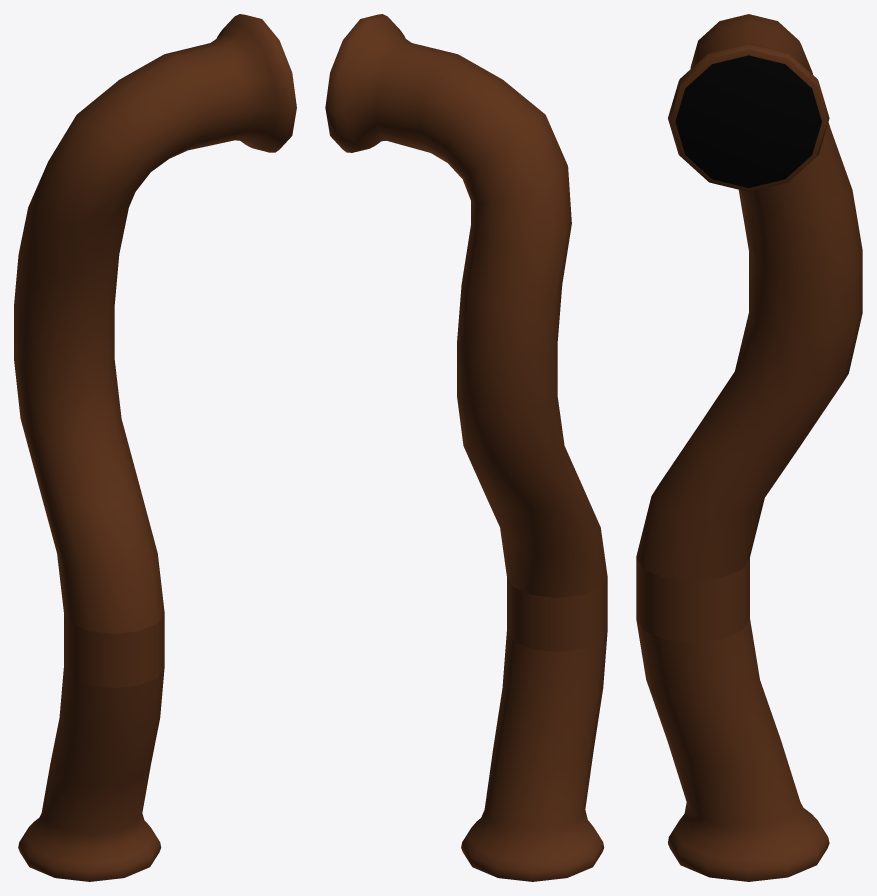
Rendered from Pipe_Curve_1x1_4m_Bent.fbx.
The picture shows the model from 3 angles, left to right: view 1: azimuth 30°, elevation 25°; view 2: azimuth 150°, elevation 25°; view 3: azimuth 270°, elevation 25°; orthographic projection. The views are drawn at different scales.
Visible parts, largest first — view 1: Pipe_Curve_1x1_4m_Bent; view 2: Pipe_Curve_1x1_4m_Bent; view 3: Pipe_Curve_1x1_4m_Bent.
Part boxes in pixels (x1,y1,x2,y2): Pipe_Curve_1x1_4m_Bent: [14, 14, 296, 881]; Pipe_Curve_1x1_4m_Bent: [325, 14, 607, 881]; Pipe_Curve_1x1_4m_Bent: [636, 14, 862, 881].
Size of the model in its own units: 136 by 436 by 99.55.
